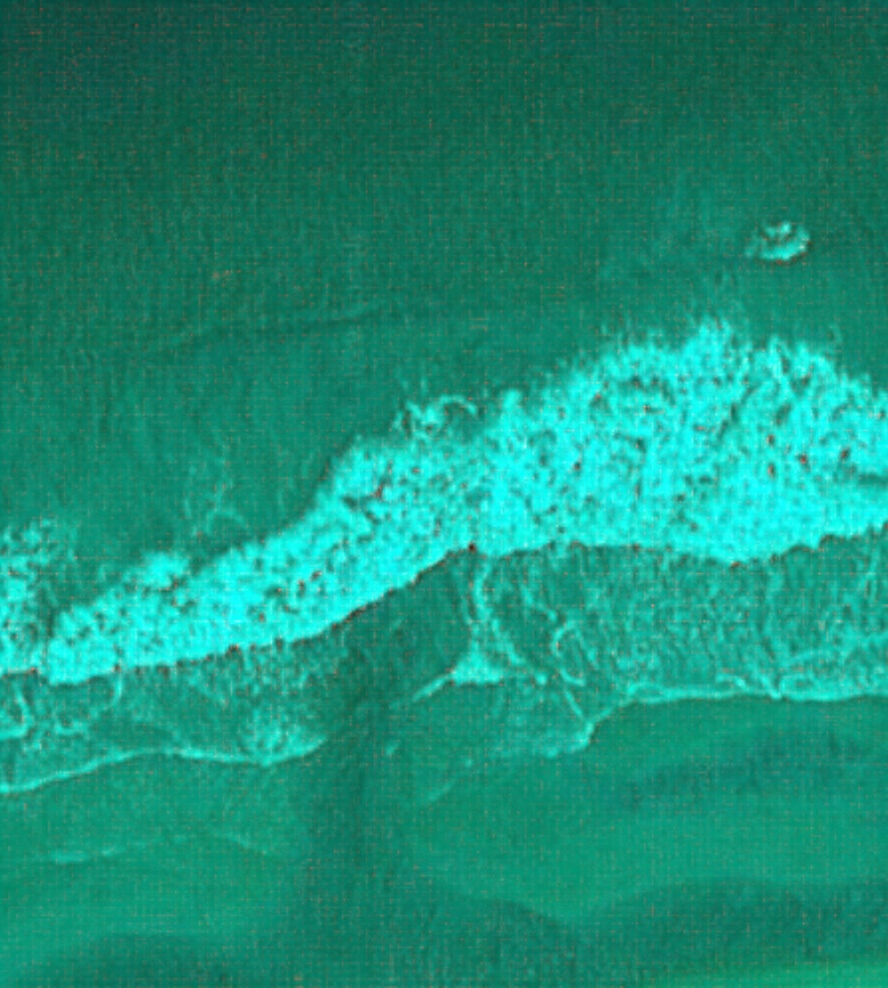rip_current: (246, 376, 439, 796)
